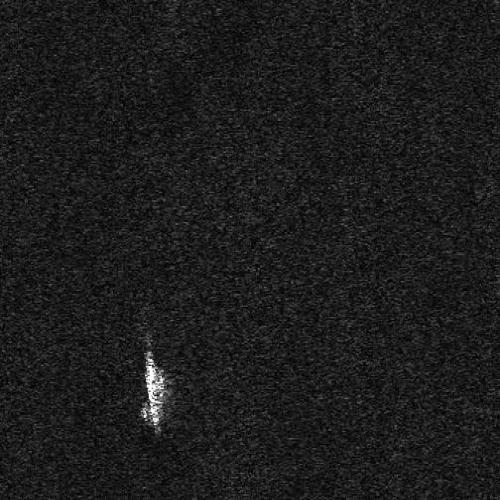ship: (141, 349, 165, 435)
